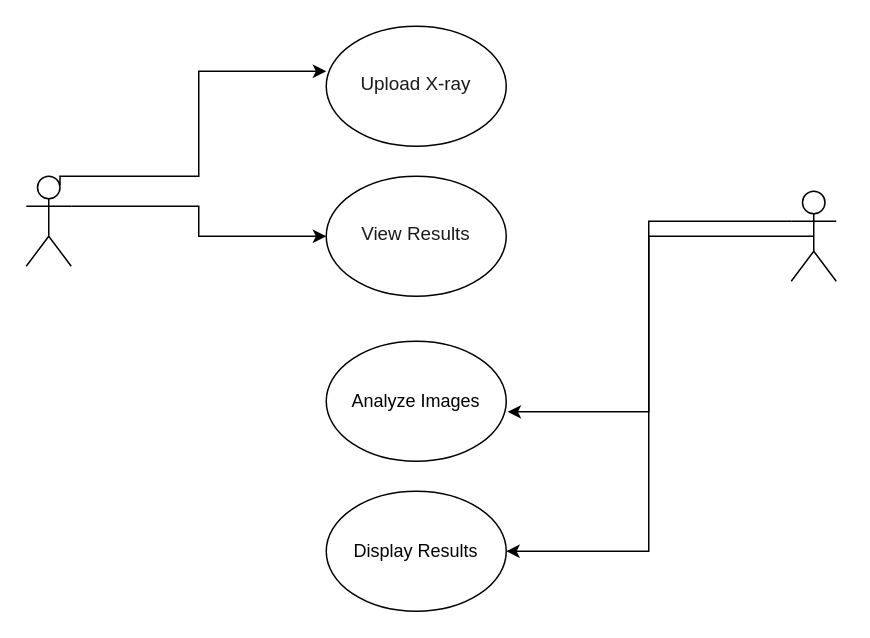
Some shapes in this 870 by 638 pixel diagram are drawn without their labels. Each missing label, with the box of its shape:
System: (790, 190, 836, 281)
User: (25, 175, 71, 266)
